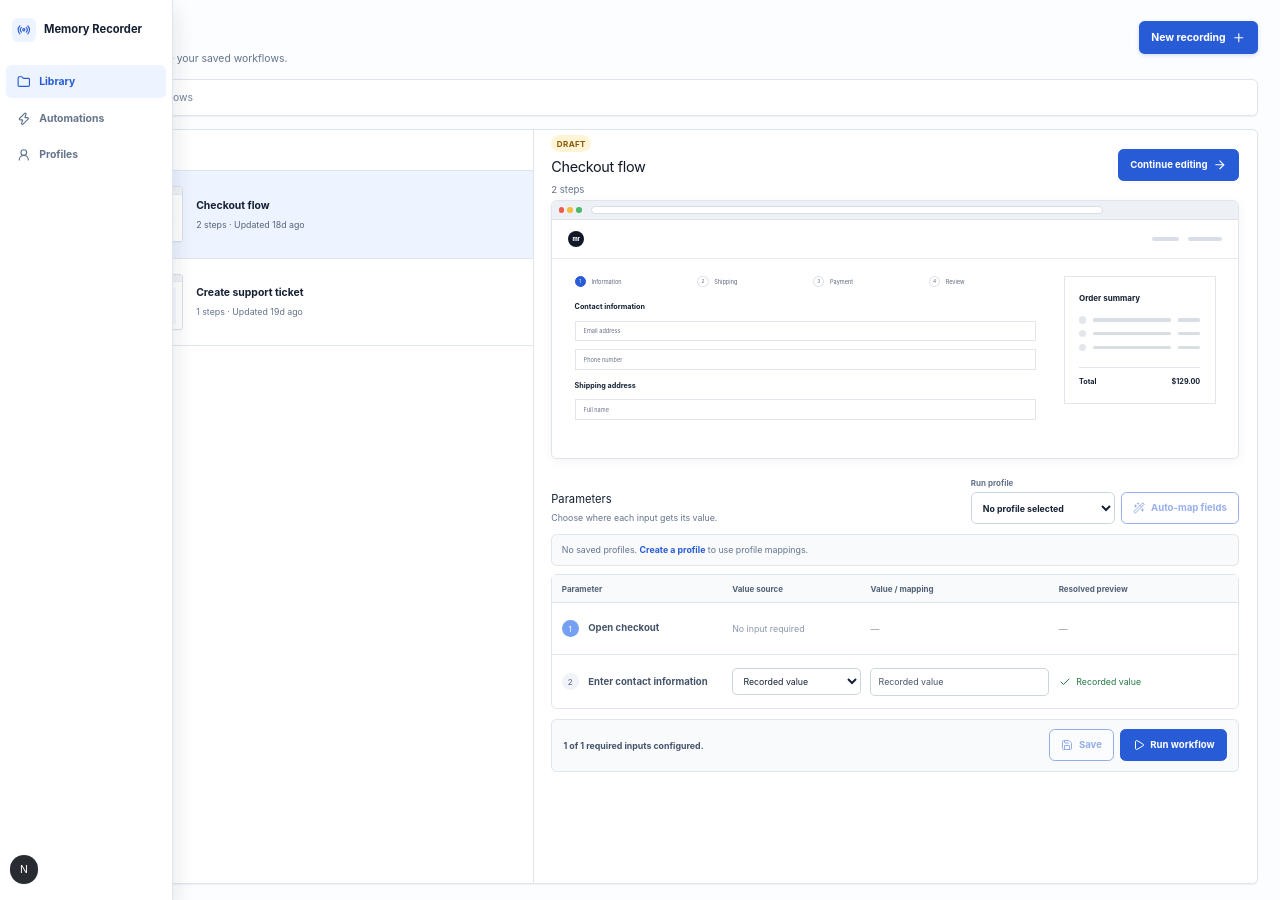
LibraryScreen › updates details and filters workflows case-insensitively
The image size is (1280, 900).
Click the button with aria-label "Select Create support ticket workflow": (302, 302) [71,259,533,345]
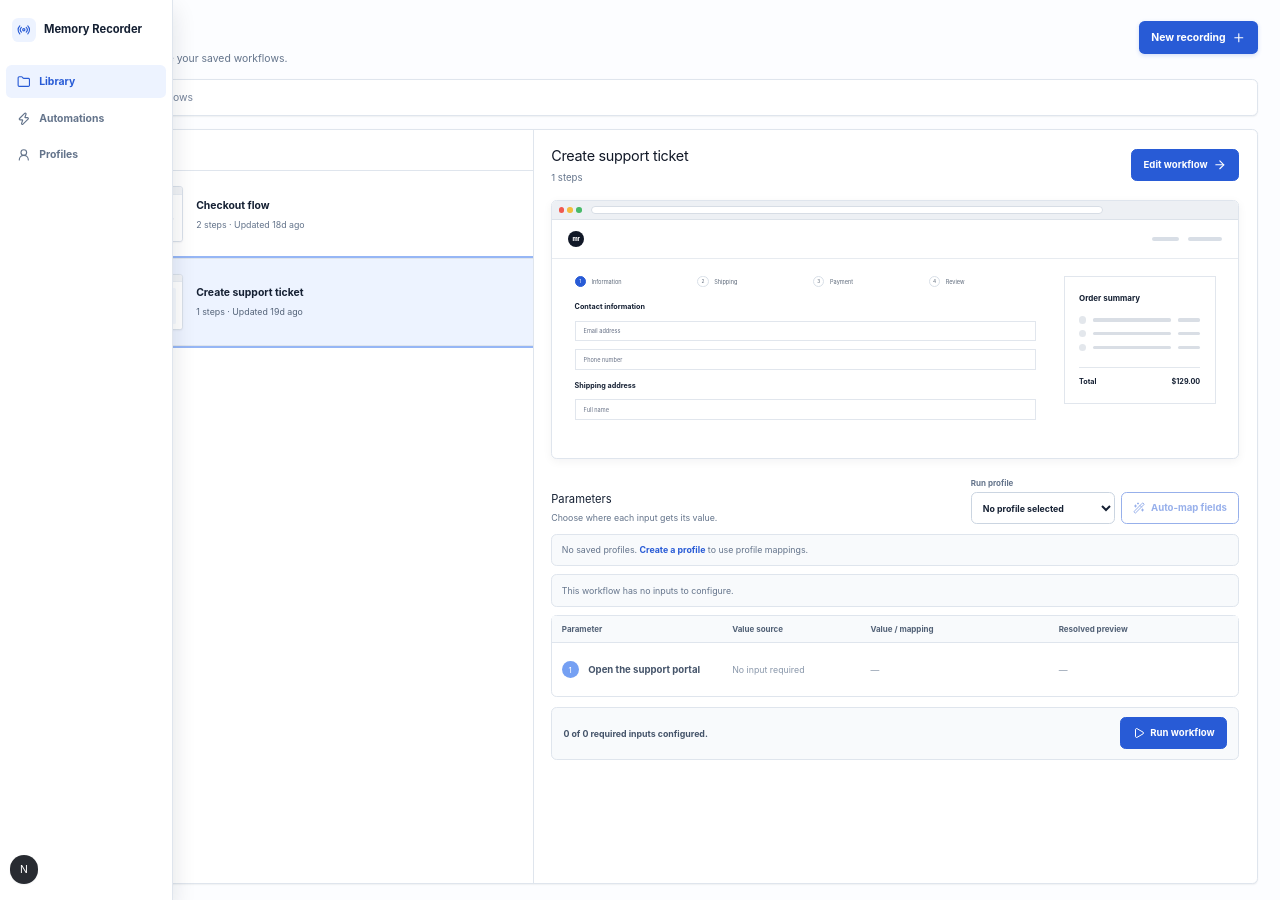
Expected: the element named "Workflow details" shows "This workflow has no inputs to configure", [562,585,734,596]
Expected: the link with aria-label "Edit workflow Create support ticket" is shown, [1131,149,1239,181]
In the search field labelled "Search workflows": (664, 98) [70,79,1258,116], type "CHECKOUT"
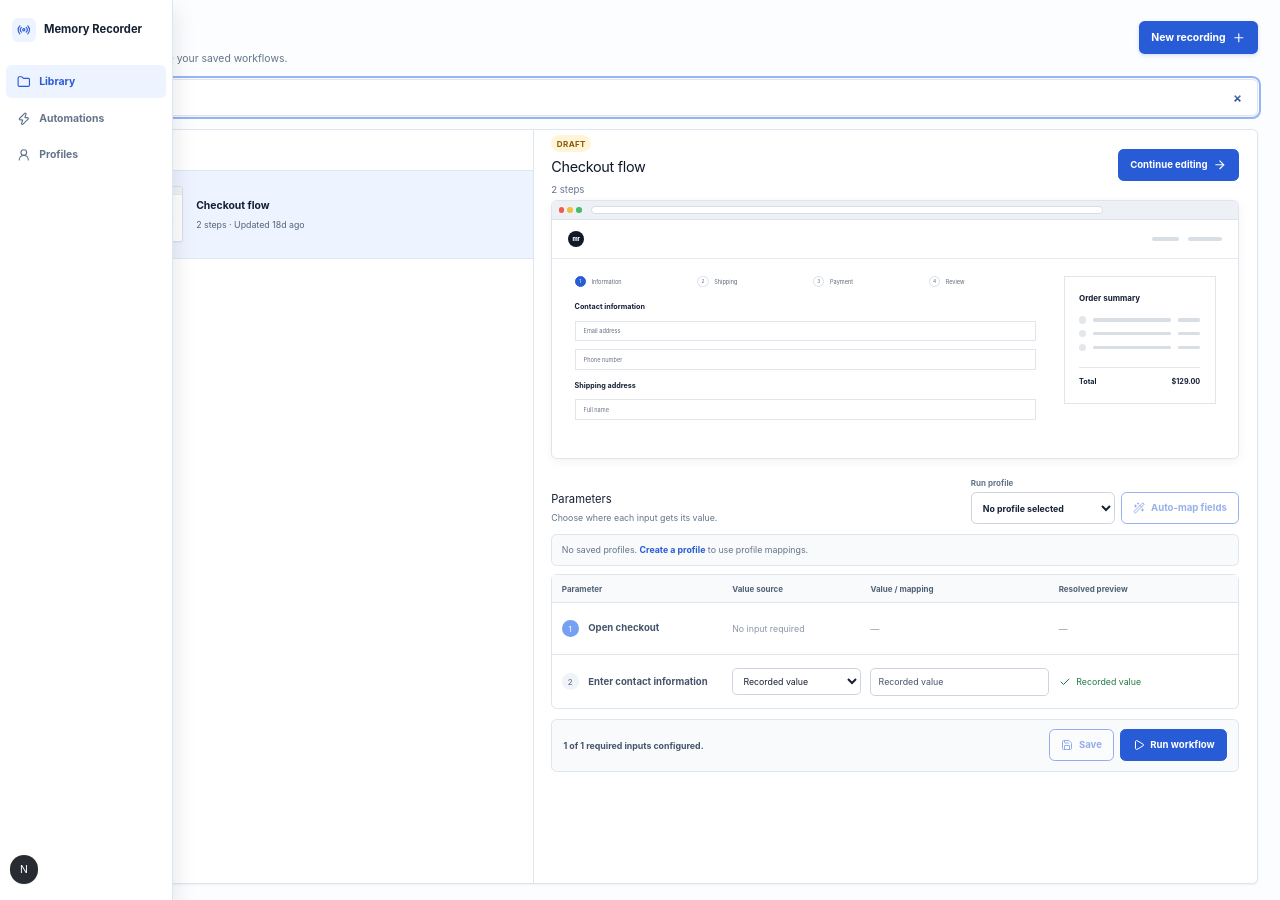
Expected: the number of buttons "Checkout flow 2 steps · Updated 18d ago" is 1, [71,171,533,258]
Expected: the heading "Checkout flow" is shown, [551,156,646,178]
